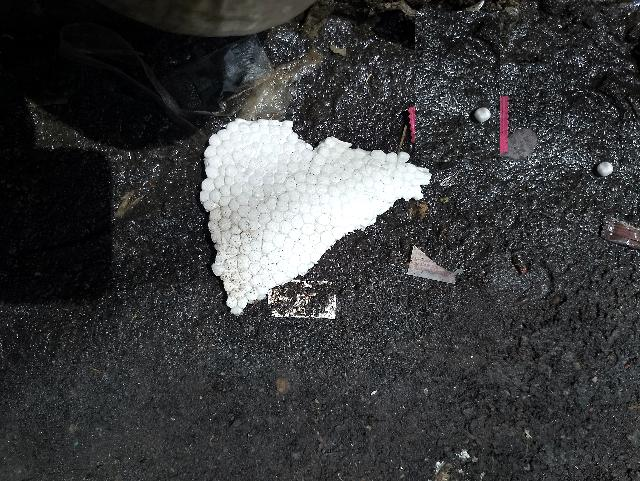cocksheet: (131, 37, 441, 327)
